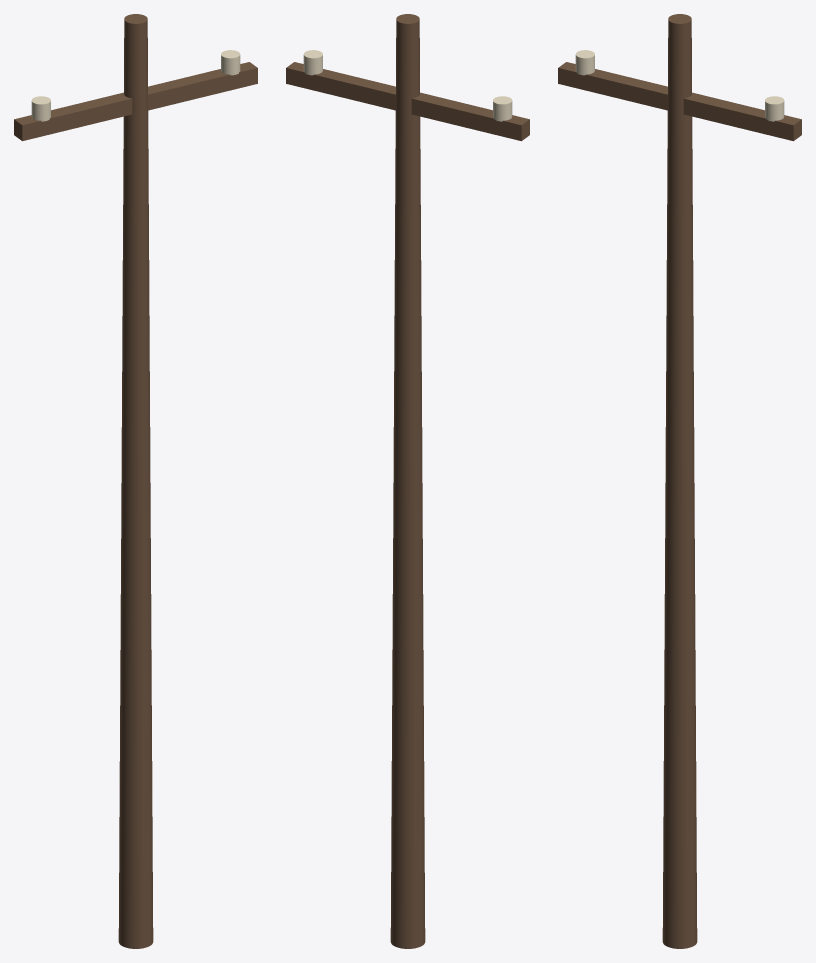
The model's file is roadside_utility_pole.glb.
3 renders of one model, left to right at view 1: azimuth 30°, elevation 25°; view 2: azimuth 150°, elevation 25°; view 3: azimuth 330°, elevation 25°, orthographic.
Parts seen in each view (by area): view 1: Pole, Crossarm; view 2: Pole, Crossarm; view 3: Pole, Crossarm.
Boxes of the visible parts, x1,y1,x2,y2 form: Pole: [118, 14, 153, 948]; Crossarm: [14, 62, 257, 141]; Pole: [390, 14, 425, 948]; Crossarm: [286, 62, 529, 141]; Pole: [662, 14, 697, 948]; Crossarm: [558, 62, 801, 141].
Bounding box in the file's own units: 2.04 × 7.64 × 0.259.
